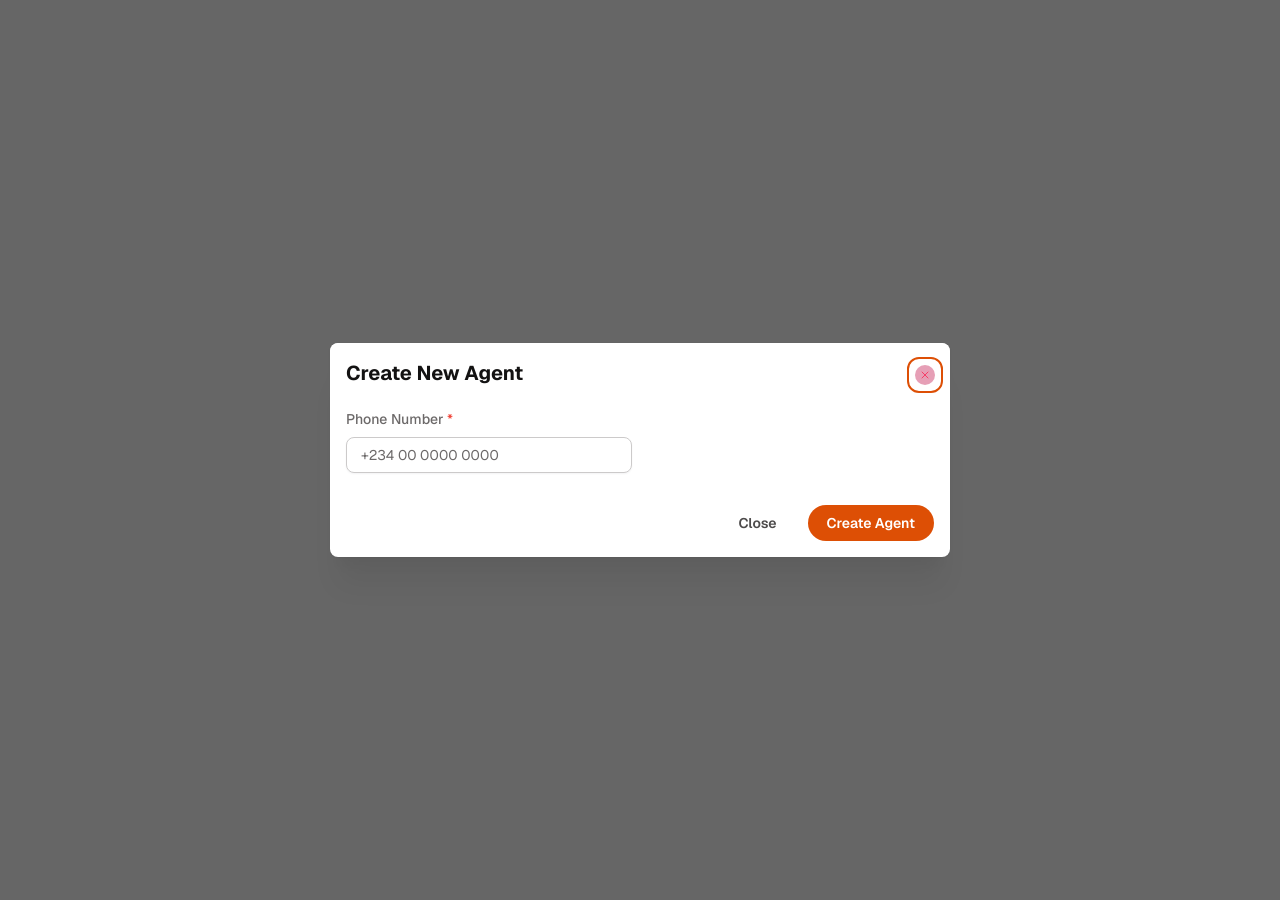
Test: FormModal phone validation › rejects 0803123456 (too short 080) and blocks submit
In the field labelled "Phone Number *": (489,455) [346, 437, 632, 473], type "0803123456"
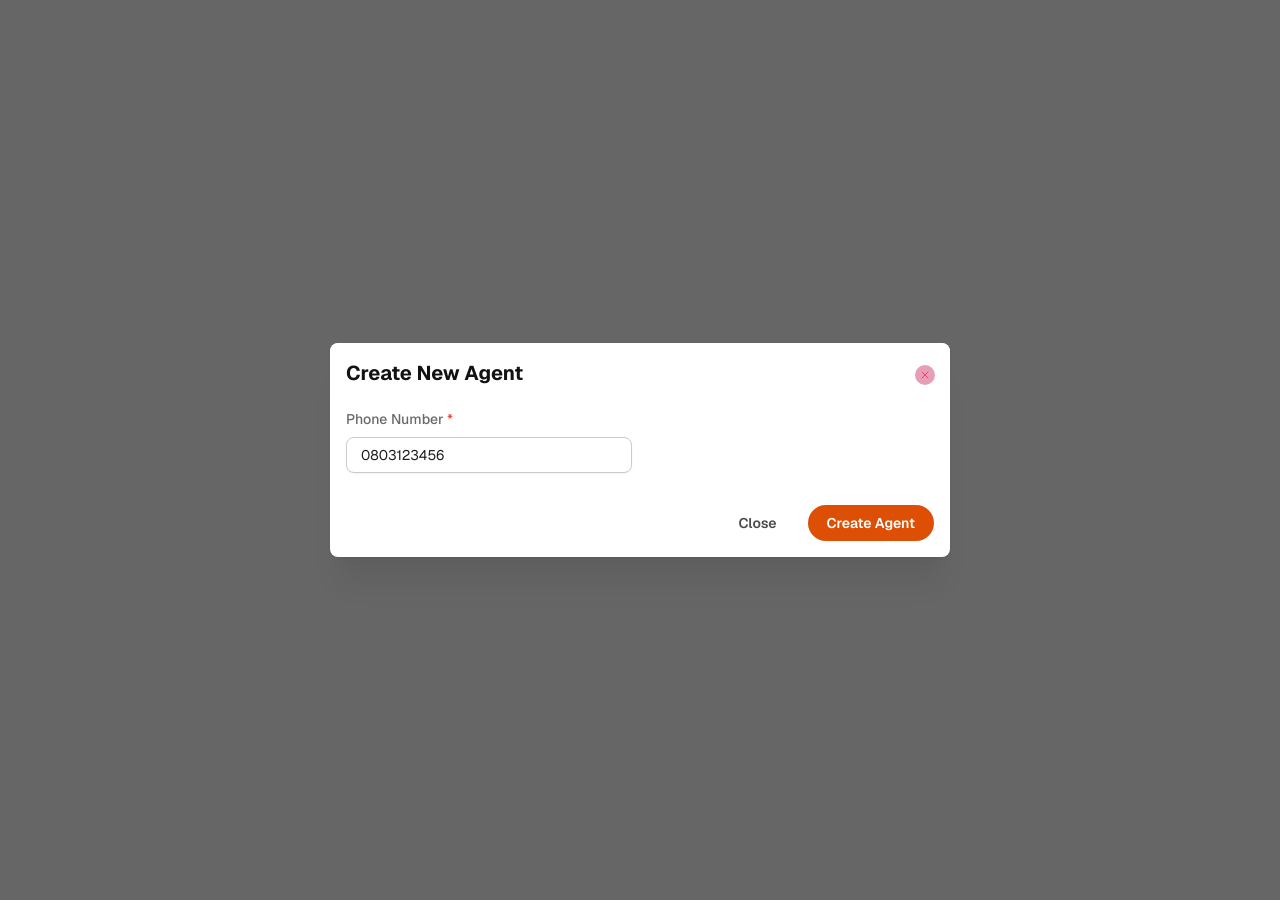
Click the button "Create Agent": (871,523) [808, 505, 934, 541]
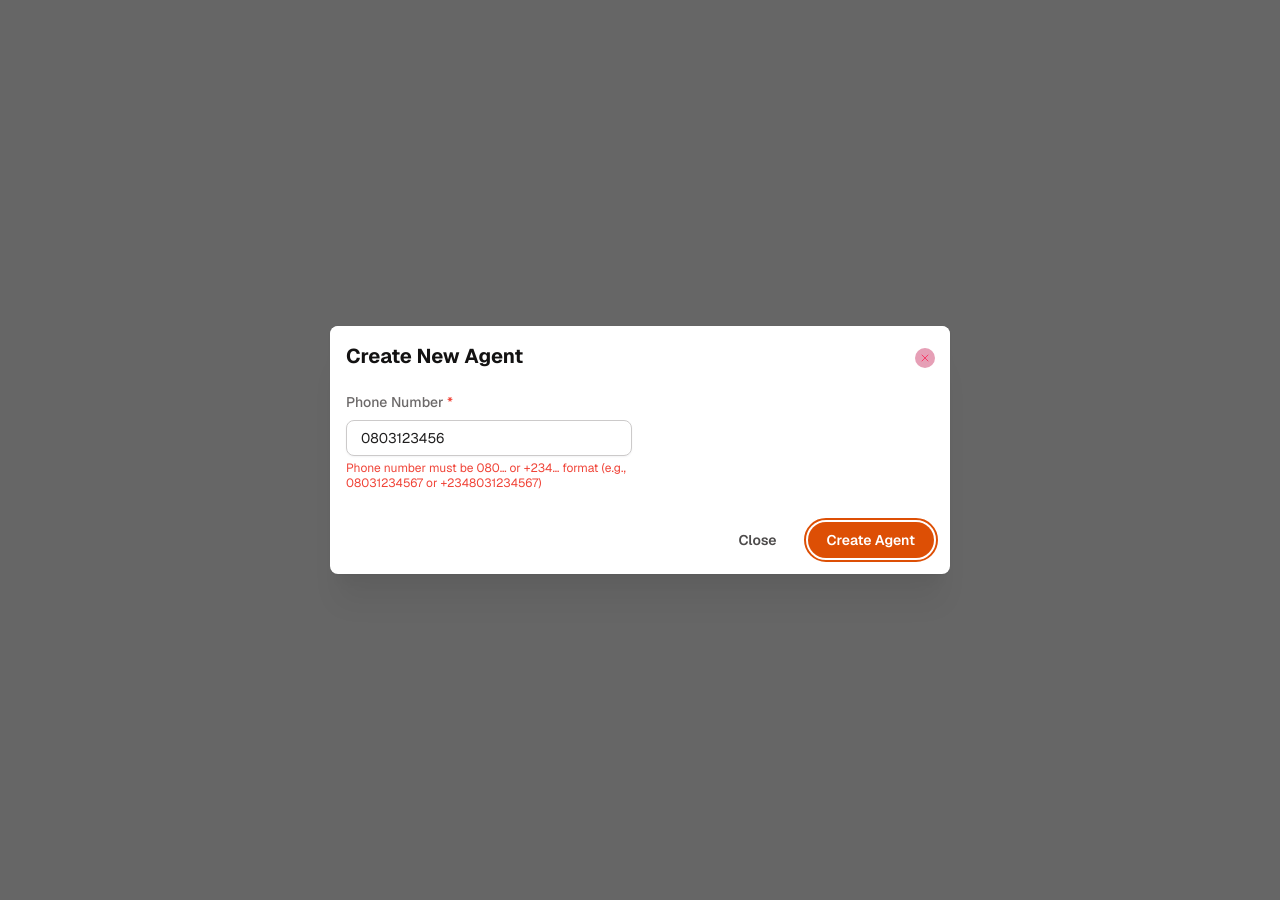
Now the text "Phone number must be 080… or +234… format (e.g., 08031234567 or +2348031234567)" is shown, box [346, 461, 632, 490]
